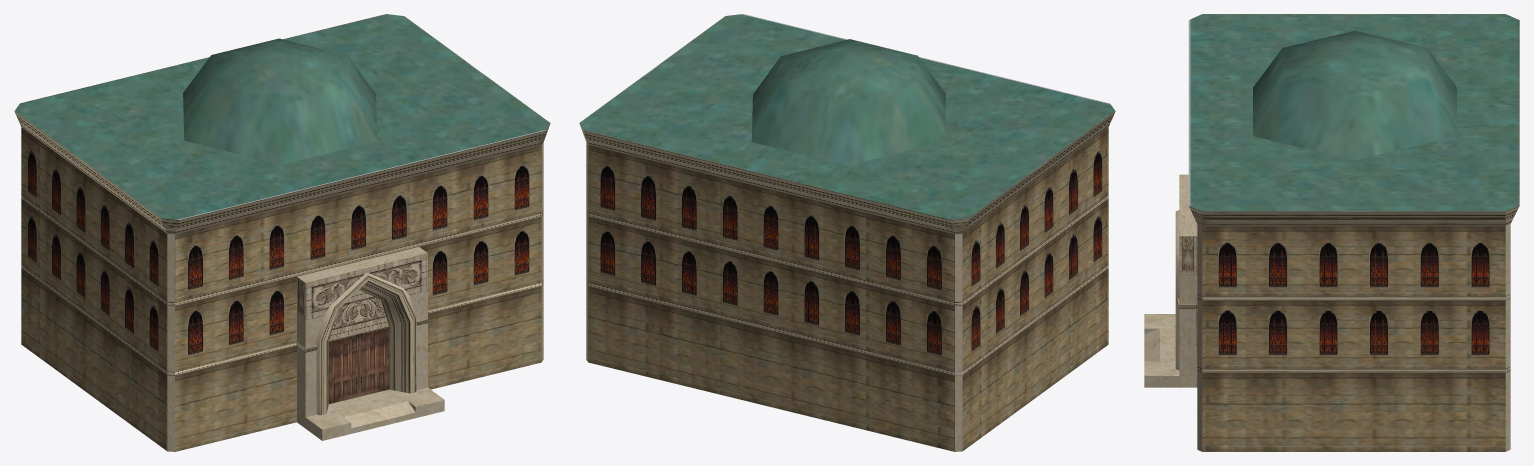
The model's file is ply_nboo_house_m_s02_fp1_l2.fbx.
3 views of the same model, side by side, from view 1: azimuth 30°, elevation 25°; view 2: azimuth 150°, elevation 25°; view 3: azimuth 270°, elevation 25° (orthographic). The views are drawn at different scales.
Visible parts, largest first — view 1: mesh_node; view 2: mesh_node; view 3: mesh_node.
Boxes of the visible parts, <box> form: mesh_node: <box>14,14,550,451</box>; mesh_node: <box>579,14,1115,451</box>; mesh_node: <box>1144,14,1519,451</box>.
Size of the model in its own units: 18.12 by 13.27 by 14.55.
